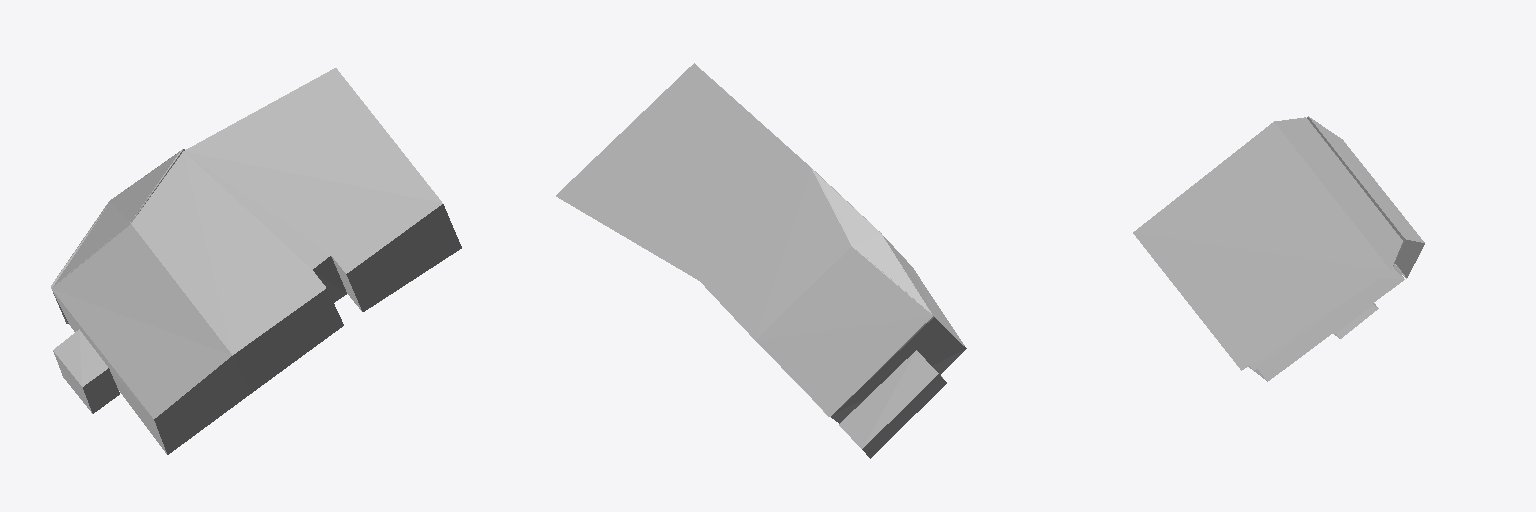
3 renders of one model, left to right at view 1: azimuth 30°, elevation 25°; view 2: azimuth 150°, elevation 25°; view 3: azimuth 270°, elevation 25°, orthographic.
Parts seen in each view (by area): view 1: [number redacted], [number redacted], [number redacted], [number redacted]; view 2: [number redacted], [number redacted], [number redacted], [number redacted]; view 3: [number redacted], [number redacted], [number redacted].
Boxes of the visible parts, x1=… form: [number redacted]: x1=131, y1=68, x2=461, y2=393; [number redacted]: x1=52, y1=224, x2=249, y2=454; [number redacted]: x1=51, y1=149, x2=184, y2=323; [number redacted]: x1=53, y1=329, x2=119, y2=413; [number redacted]: x1=699, y1=169, x2=933, y2=416; [number redacted]: x1=556, y1=63, x2=879, y2=280; [number redacted]: x1=839, y1=350, x2=946, y2=458; [number redacted]: x1=831, y1=233, x2=966, y2=423; [number redacted]: x1=1133, y1=117, x2=1402, y2=370; [number redacted]: x1=1254, y1=267, x2=1404, y2=381; [number redacted]: x1=1307, y1=116, x2=1424, y2=278.
Size of the model in its own units: 53.5 by 47 by 36.25.